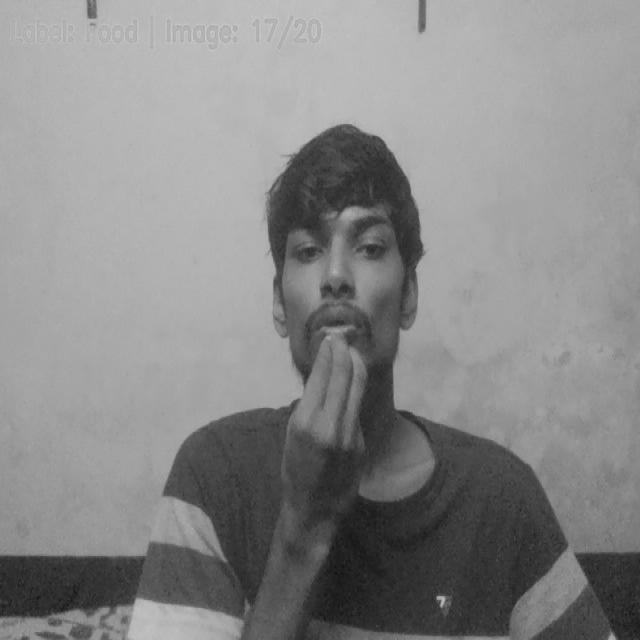Food: (278, 334, 381, 522)
